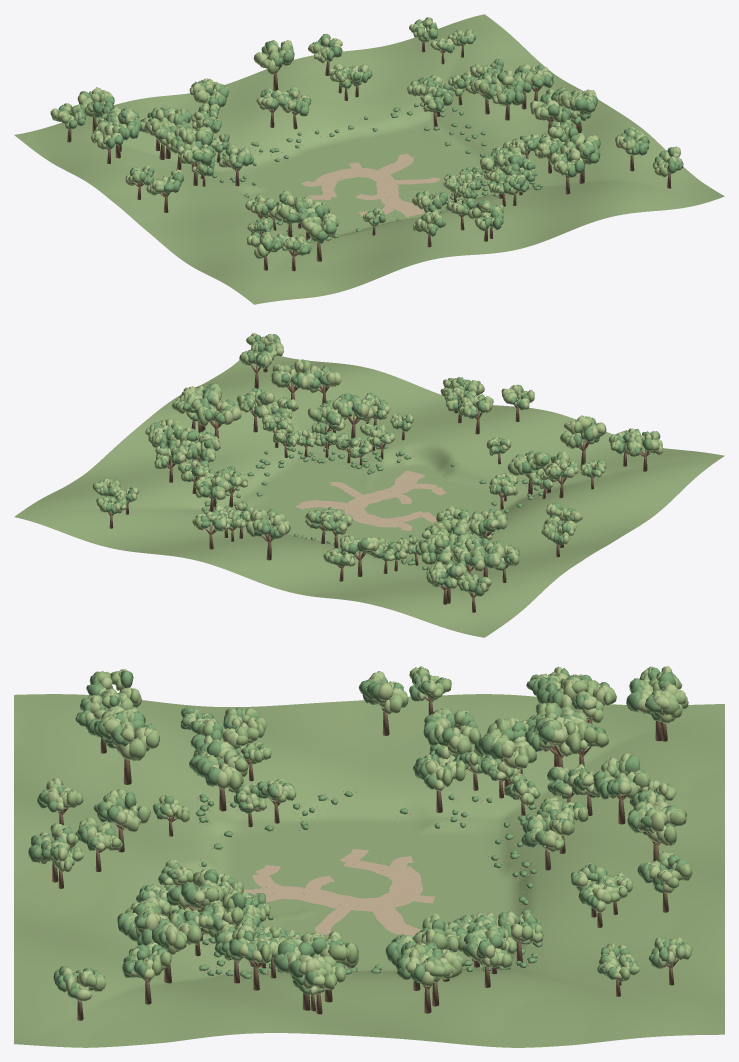
The model's file is town_landscape.glb.
3 renders of one model, top to bottom at view 1: azimuth 30°, elevation 25°; view 2: azimuth 150°, elevation 25°; view 3: azimuth 270°, elevation 25°, orthographic. The views are drawn at different scales.
Visible parts, largest first — view 1: Terrain-col, Leaf_0, Leaf_1, Leaf_2, Bark, Path; view 2: Terrain-col, Leaf_0, Leaf_2, Leaf_1, Bark, Path; view 3: Terrain-col, Leaf_0, Leaf_1, Leaf_2, Bark, Path.
Boxes of the visible parts, x1,y1,x2,y2 form: Terrain-col: (14, 14, 724, 304); Leaf_0: (52, 19, 683, 254); Leaf_1: (52, 17, 676, 257); Leaf_2: (50, 19, 682, 258); Bark: (65, 41, 671, 271); Path: (300, 153, 440, 216); Terrain-col: (14, 356, 724, 637); Leaf_0: (99, 334, 660, 596); Leaf_2: (98, 333, 662, 592); Leaf_1: (92, 335, 662, 594); Bark: (106, 364, 651, 612); Path: (295, 470, 446, 530); Terrain-col: (14, 694, 724, 1047); Leaf_0: (28, 667, 687, 999); Leaf_1: (38, 666, 692, 993); Leaf_2: (39, 666, 687, 1001); Bark: (52, 696, 678, 1020); Path: (243, 849, 434, 936).
Size of the model in its own units: 86.5 by 11.54 by 76.5.
